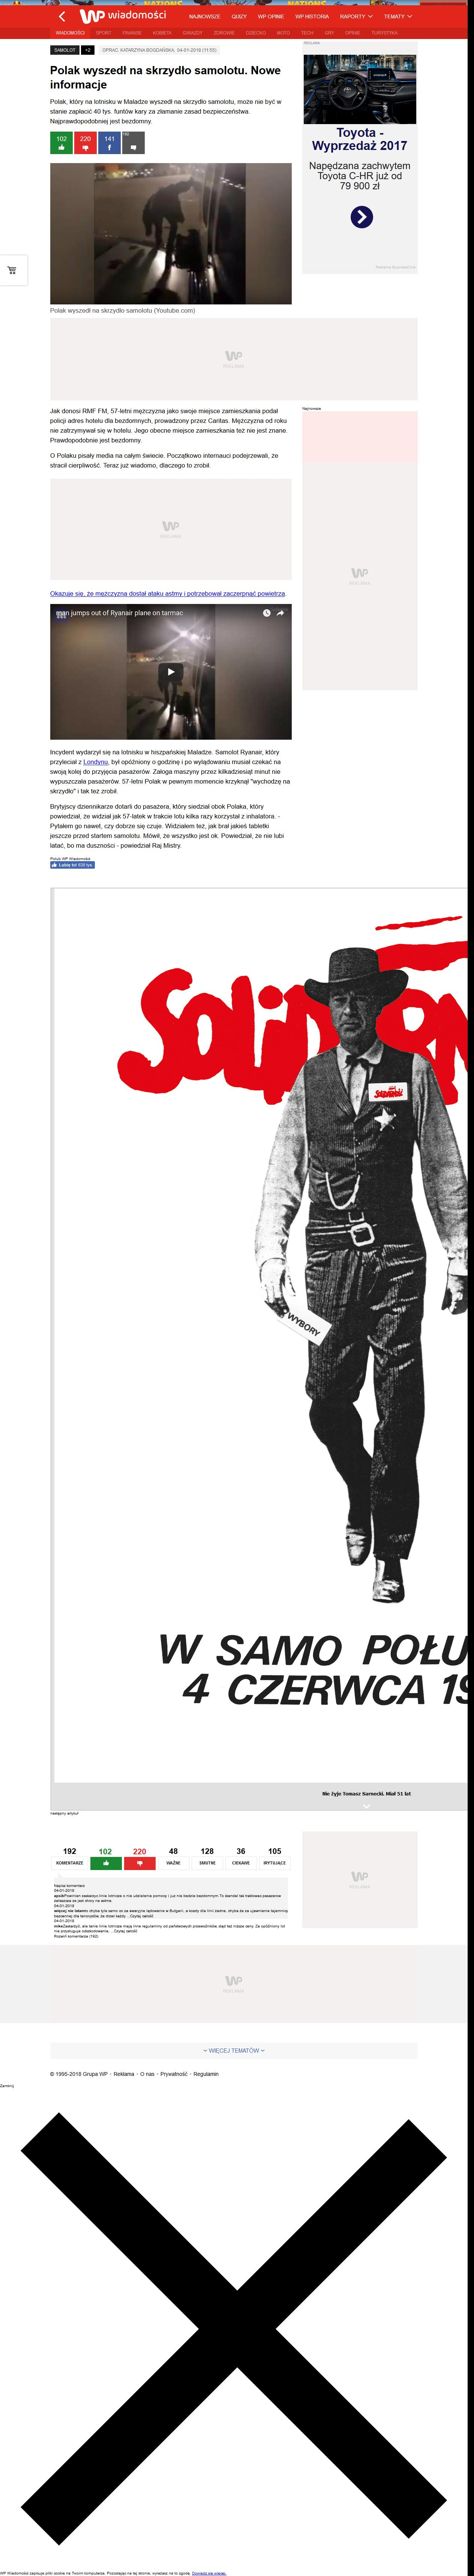title: (49, 66, 281, 90)
